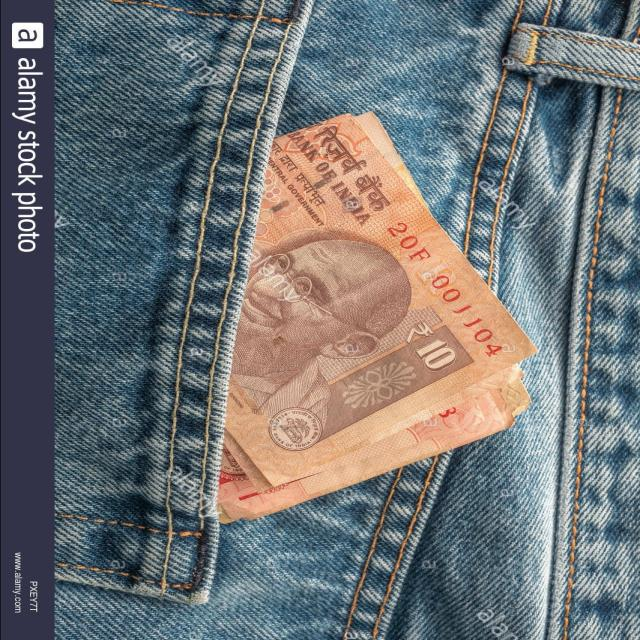10IndianRupees: (203, 101, 532, 481)
